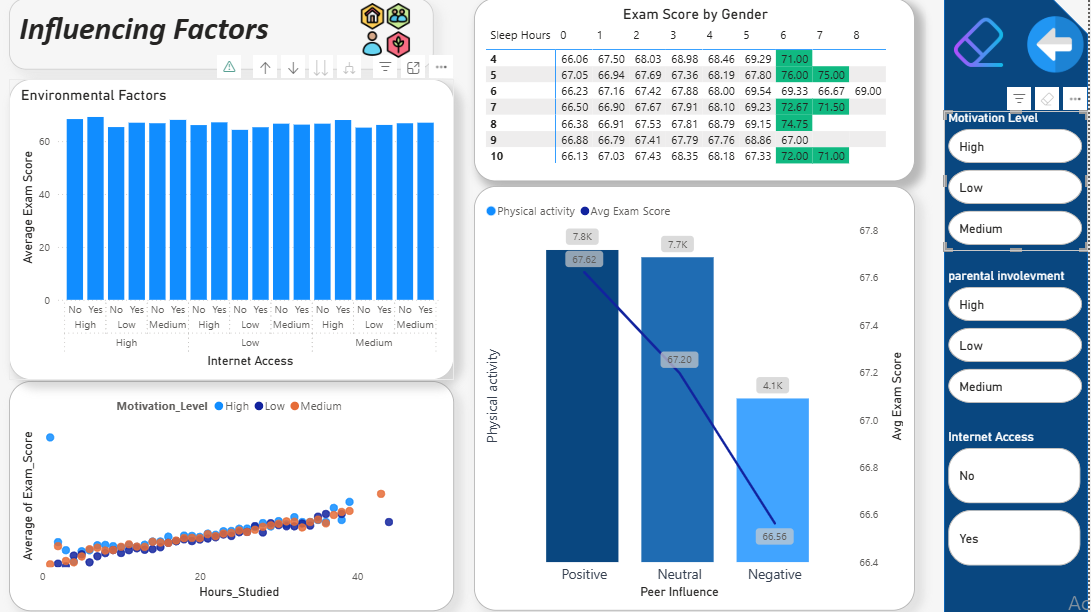

What the dashboard file says about the page in this screenshot:
{"tool":"powerbi","page":{"name":"Influencing Factors","canvas":[1280,720],"ordinal":1},"visuals":[{"type":"textbox","box":[15.2,0,498.4,84.4],"z":0},{"type":"scatterChart","fields":{"Y":["Avg(StudentPerformanceFactors.Exam_Score)"],"X":["StudentPerformanceFactors.Hours_Studied"],"Series":["StudentPerformanceFactors.Motivation_Level"]},"box":[14.9,448.6,521.9,269.7],"z":5000},{"type":"pivotTable","title":"Exam Score by Gender","fields":{"Rows":["StudentPerformanceFactors.Sleep_Hours"],"Columns":["StudentPerformanceFactors.Tutoring_Sessions"],"Values":["StudentPerformanceFactors.Avg Exam Score"]},"box":[560.5,0,517,215],"z":6000},{"type":"shape","box":[1111.7,0,168.9,799.7],"z":7000},{"type":"advancedSlicerVisual","title":"Motivation Level","fields":{"Values":["StudentPerformanceFactors.Motivation_Level"]},"box":[1112.2,133,167.8,164],"z":8000},{"type":"advancedSlicerVisual","title":"parental involevment","fields":{"Values":["StudentPerformanceFactors.Parental_Involvement"]},"box":[1112.2,318.1,167.8,164],"z":9000},{"type":"clusteredColumnChart","title":"Environmental Factors","fields":{"Category":["StudentPerformanceFactors.Parental_Involvement","StudentPerformanceFactors.Access_to_Resources","StudentPerformanceFactors.Internet_Access"],"Y":["StudentPerformanceFactors.Avg Exam Score"]},"box":[14.9,94.4,521.9,352.9],"z":10000},{"type":"advancedSlicerVisual","title":"Internet Access","fields":{"Values":["StudentPerformanceFactors.Internet_Access"]},"box":[1111.7,506.6,165.3,164.2],"z":11000},{"type":"image","box":[1111.7,9.4,80.9,84.4],"z":19000},{"type":"lineStackedColumnComboChart","fields":{"Category":["StudentPerformanceFactors.Peer_Influence"],"Y":["Sum(StudentPerformanceFactors.Physical_Activity)"],"Y2":["StudentPerformanceFactors.Avg Exam Score"]},"box":[560.5,220,517,498.3],"z":19001},{"type":"image","box":[1204.2,9.9,75.8,89.5],"z":19002},{"type":"image","box":[418.8,0,75.8,75.8],"z":19003}]}

Visuals, with their boxes on the page's 1280x720 design canvas (x1, y1, x2, y2). These are canvas units, not pixel positions in the 1091x612 screenshot, which may show the page scaled, cropped or inside an application window:
textbox: <region>15, 0, 514, 84</region>
scatterChart - Avg(StudentPerformanceFactors.Exam_Score) x StudentPerformanceFactors.Hours_Studied: <region>15, 449, 537, 718</region>
"Exam Score by Gender" pivotTable: <region>560, 0, 1078, 215</region>
shape: <region>1112, 0, 1281, 800</region>
"Motivation Level" advancedSlicerVisual: <region>1112, 133, 1280, 297</region>
"parental involevment" advancedSlicerVisual: <region>1112, 318, 1280, 482</region>
"Environmental Factors" clusteredColumnChart: <region>15, 94, 537, 447</region>
"Internet Access" advancedSlicerVisual: <region>1112, 507, 1277, 671</region>
image: <region>1112, 9, 1193, 94</region>
lineStackedColumnComboChart - StudentPerformanceFactors.Peer_Influence x Sum(StudentPerformanceFactors.Physical_Activity): <region>560, 220, 1078, 718</region>
image: <region>1204, 10, 1280, 99</region>
image: <region>419, 0, 495, 76</region>
